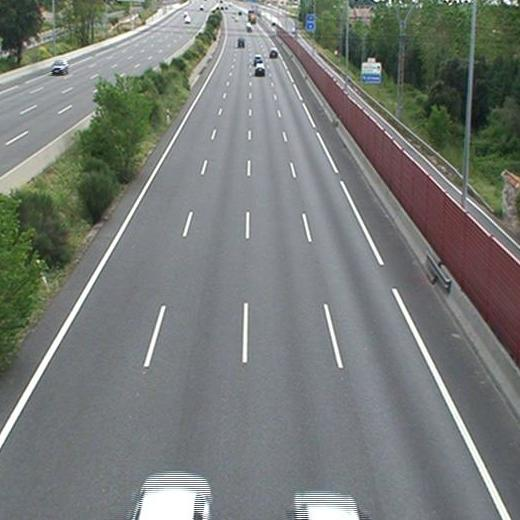car: (255, 64, 266, 74), (269, 49, 278, 58), (253, 54, 262, 61)
